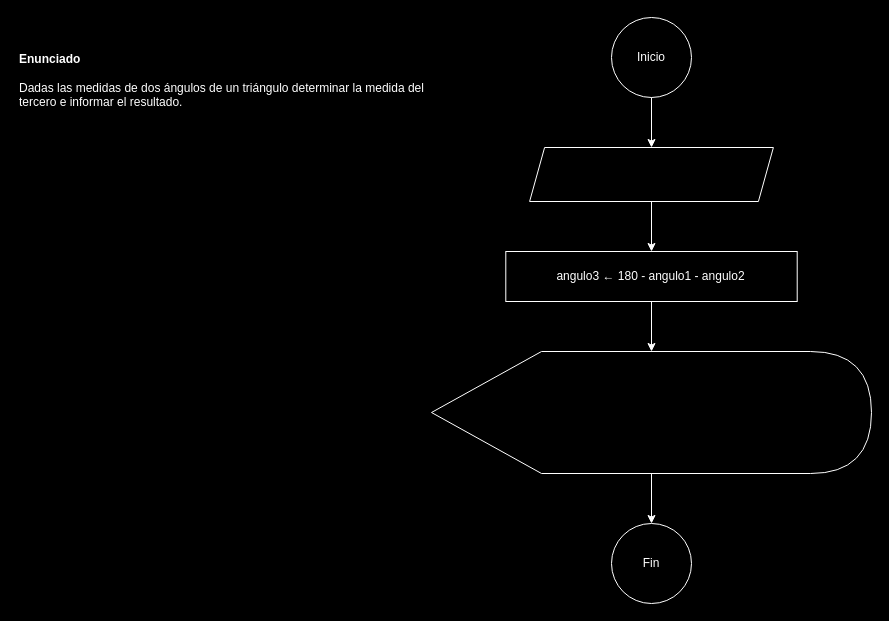
Image size: 889x621. Some labels were removed from this diagram. The centre of each missing label's shape, as x and y in pixels:
Escribir "El tercer ángulo mide: ", angulo3: (x=651, y=412)
Leer angulo1, angulo2: (x=651, y=174)
